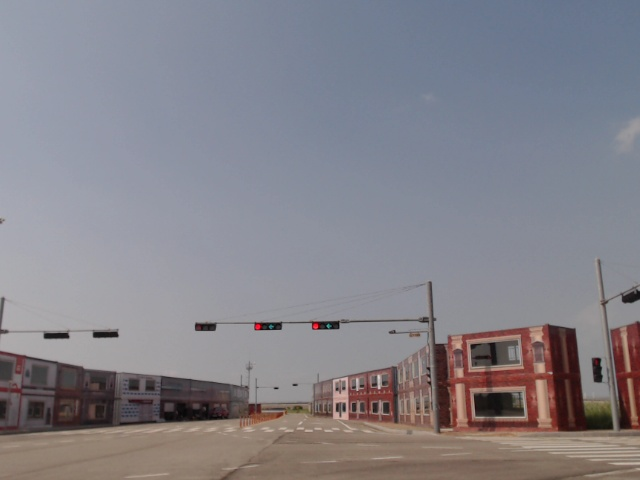left_green_4: (255, 323, 281, 331), (313, 323, 339, 329)
